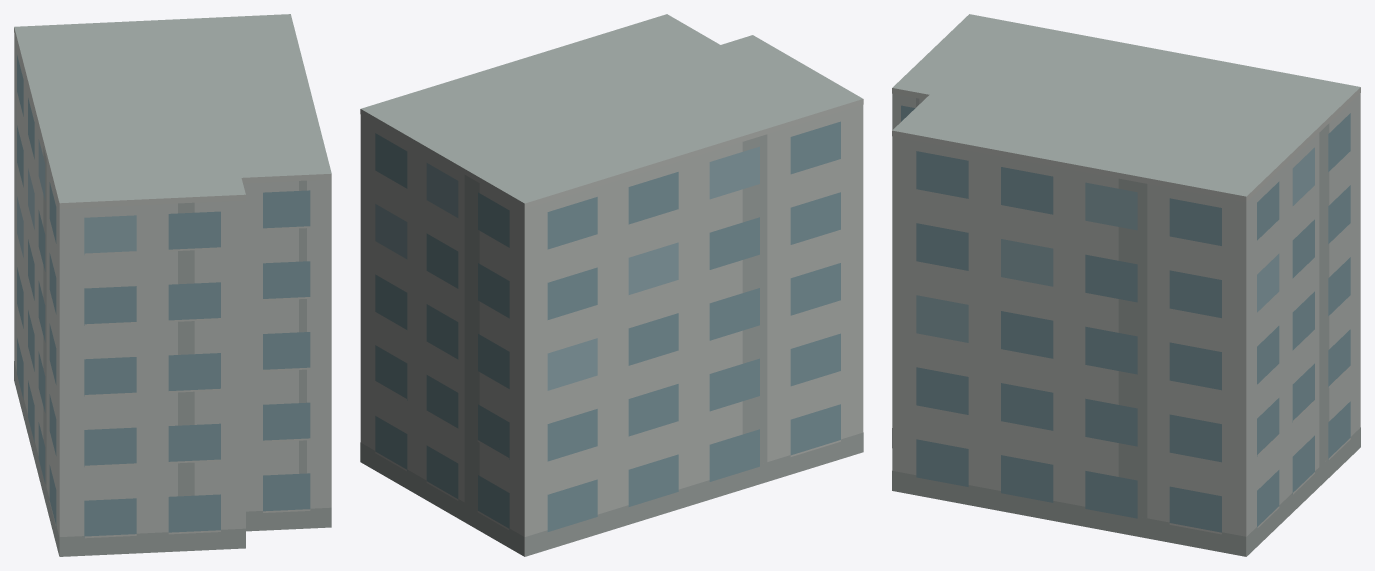
File: residential-a62ffdaf-dc81-4c63-b0e7-f40d05a73195.glb
3 views of the same model, side by side, from view 1: azimuth 30°, elevation 25°; view 2: azimuth 150°, elevation 25°; view 3: azimuth 270°, elevation 25° (orthographic).
Visible parts, largest first — view 1: residential-a62ffdaf-dc81-4c63-b0e7-f40d05a73195.tmp; view 2: residential-a62ffdaf-dc81-4c63-b0e7-f40d05a73195.tmp; view 3: residential-a62ffdaf-dc81-4c63-b0e7-f40d05a73195.tmp.
Boxes of the visible parts, x1,y1,x2,y2 form: residential-a62ffdaf-dc81-4c63-b0e7-f40d05a73195.tmp: (14,14,331,556); residential-a62ffdaf-dc81-4c63-b0e7-f40d05a73195.tmp: (360,14,863,556); residential-a62ffdaf-dc81-4c63-b0e7-f40d05a73195.tmp: (892,14,1360,556).
Size of the model in its own units: 16.58 by 15.25 by 17.99.
